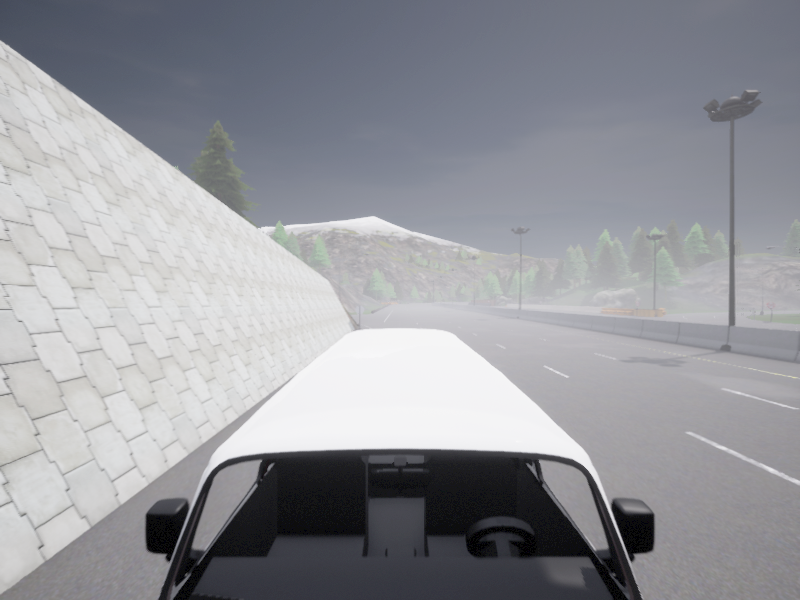vehicle: (145, 329, 654, 599)
